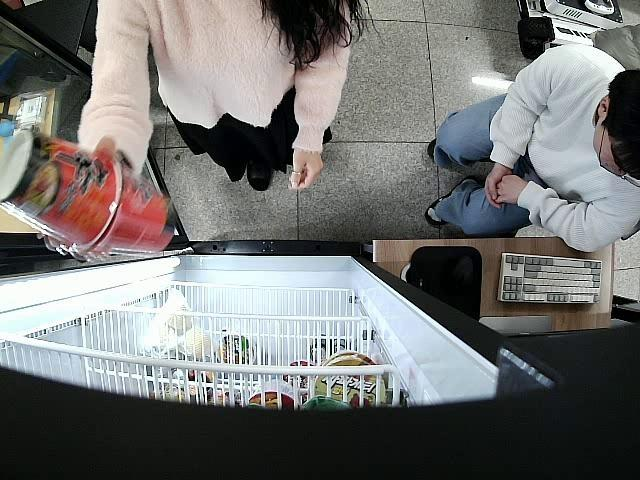02_shinRamen_S: (0, 129, 119, 252), (80, 172, 180, 254)
